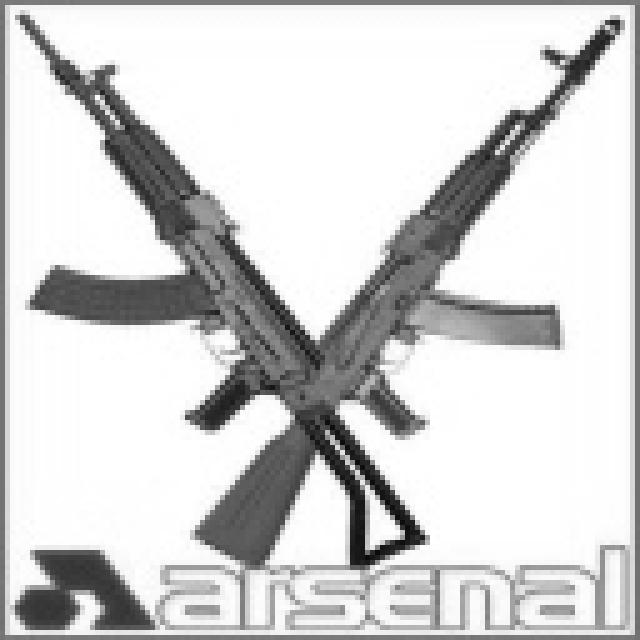Rifle: (0, 0, 445, 600), (197, 14, 640, 596)
